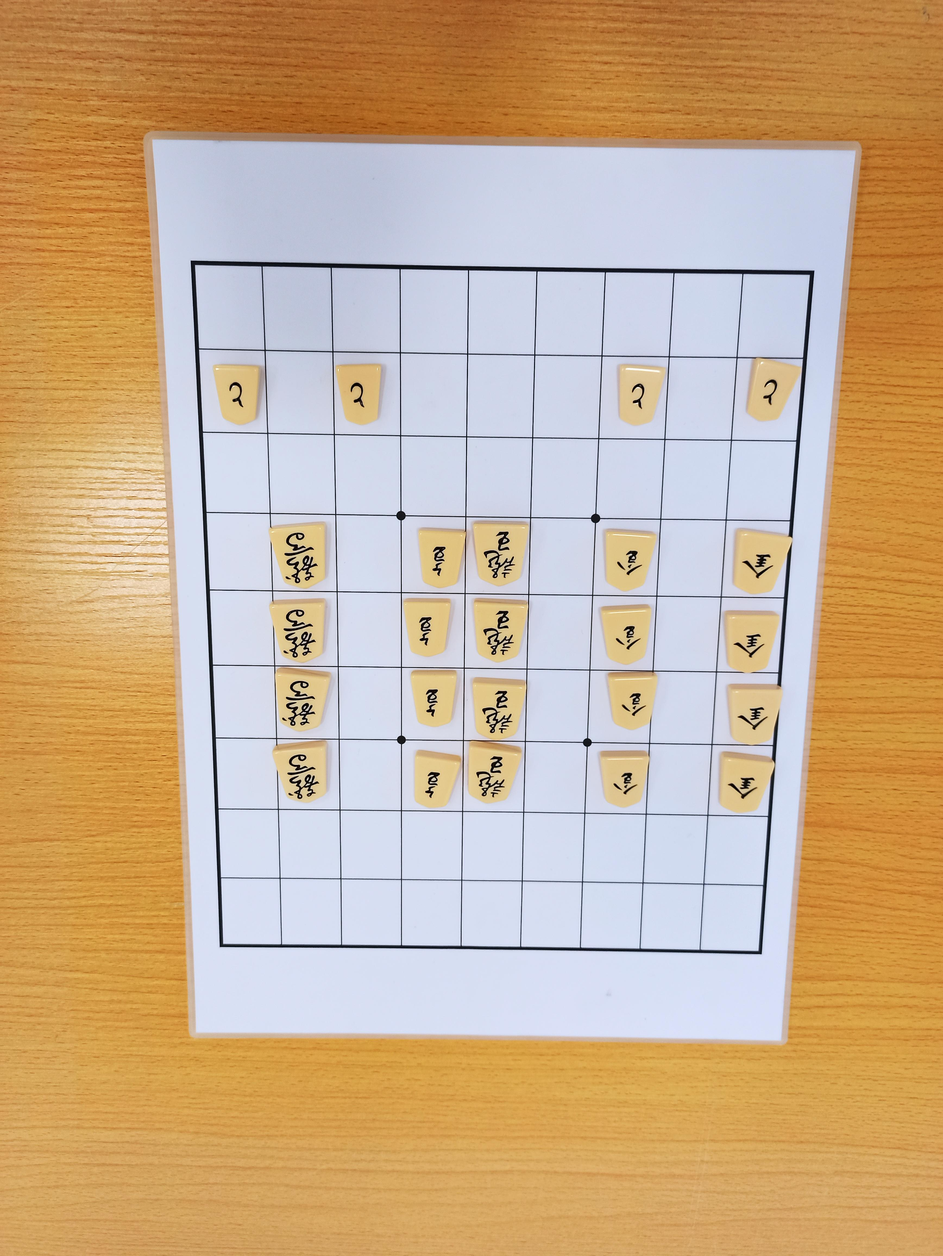board: (195, 261, 810, 952)
